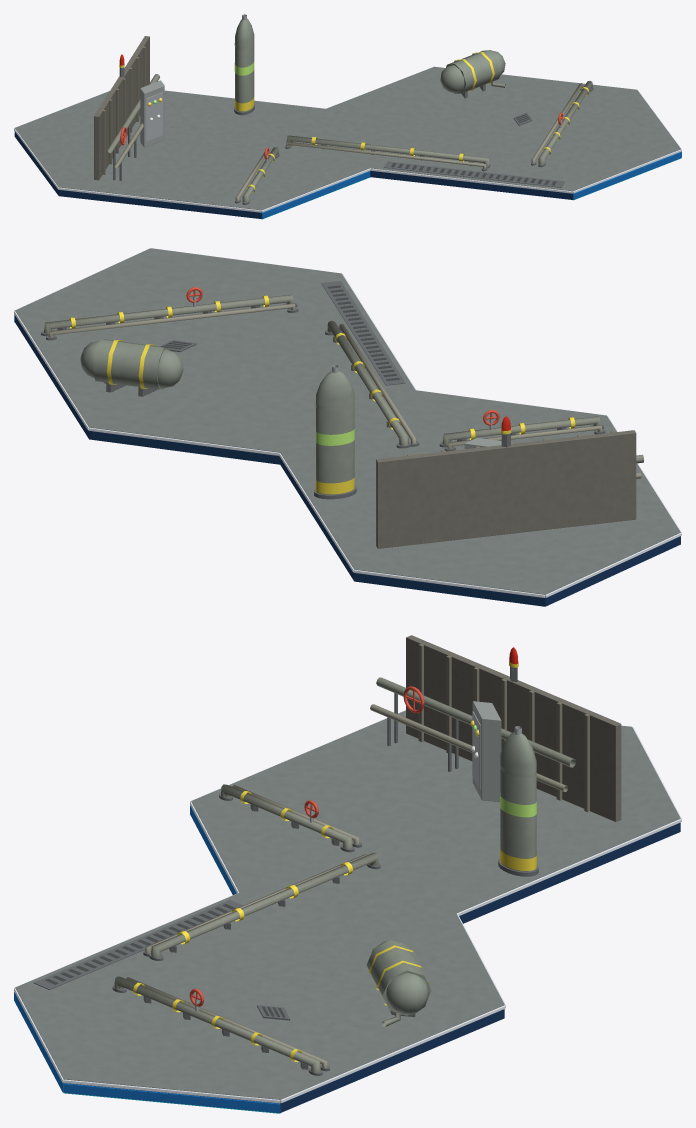
Rendered from field_cm23_01.glb.
3 views of the same model, one above another, from view 1: azimuth 30°, elevation 25°; view 2: azimuth 150°, elevation 25°; view 3: azimuth 270°, elevation 25° (orthographic). The views are drawn at different scales.
Visible parts, largest first — view 1: field_cm23_01-refined; view 2: field_cm23_01-refined; view 3: field_cm23_01-refined.
Boxes of the visible parts, box(x1,y1,x2,y2) form: field_cm23_01-refined: box(14, 14, 681, 219); field_cm23_01-refined: box(14, 248, 681, 606); field_cm23_01-refined: box(14, 635, 681, 1113).
Bounding box in the file's own units: 14.93 × 2.73 × 10.69.
1 material, 1 textured.
